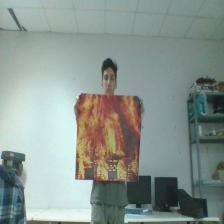fire-poster: (76, 94, 141, 181)
